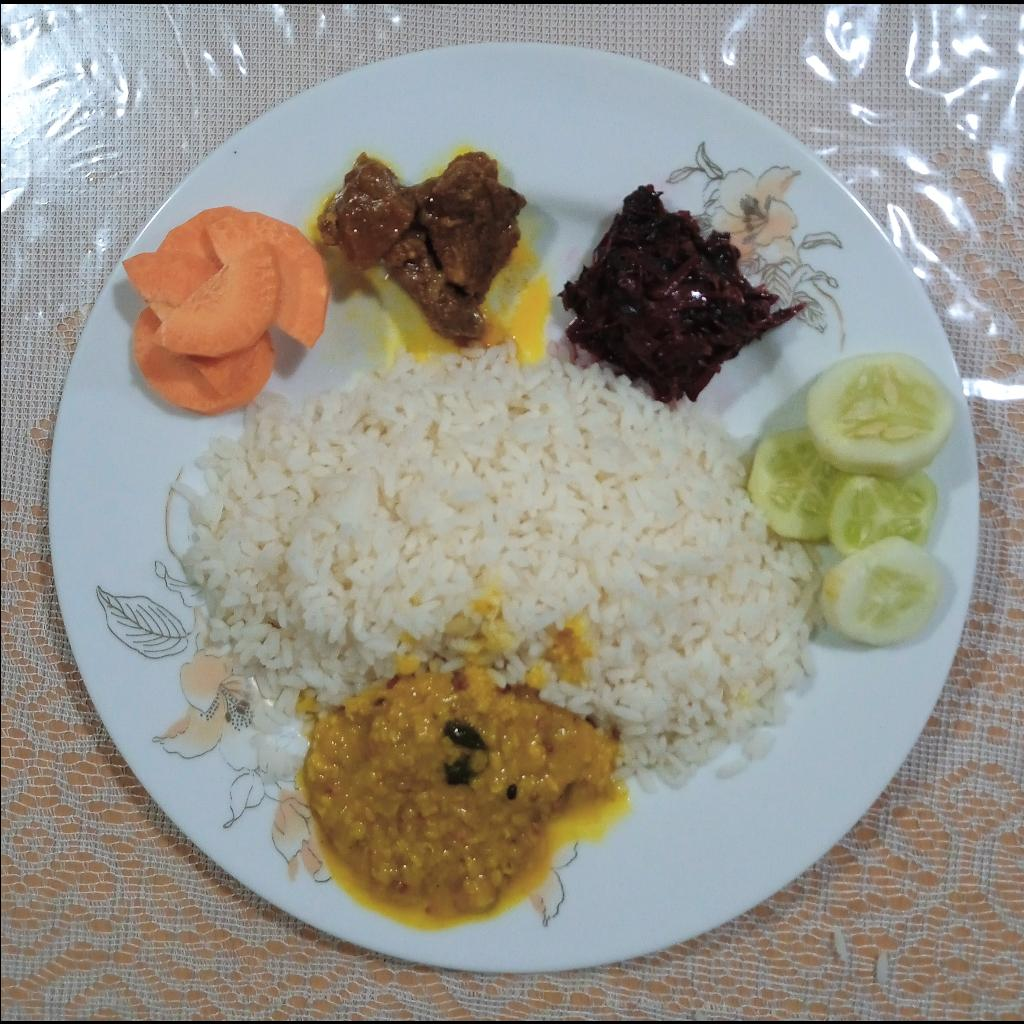beef: (315, 152, 530, 338)
carrot: (122, 204, 329, 416)
cucumber: (747, 351, 953, 647)
daal: (294, 666, 624, 925)
rice: (170, 330, 825, 794)
shak: (558, 183, 807, 403)
